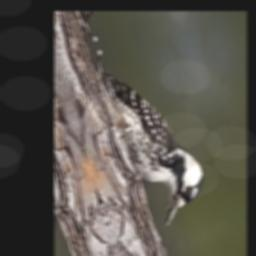Woodpecker: (93, 45, 217, 237)
